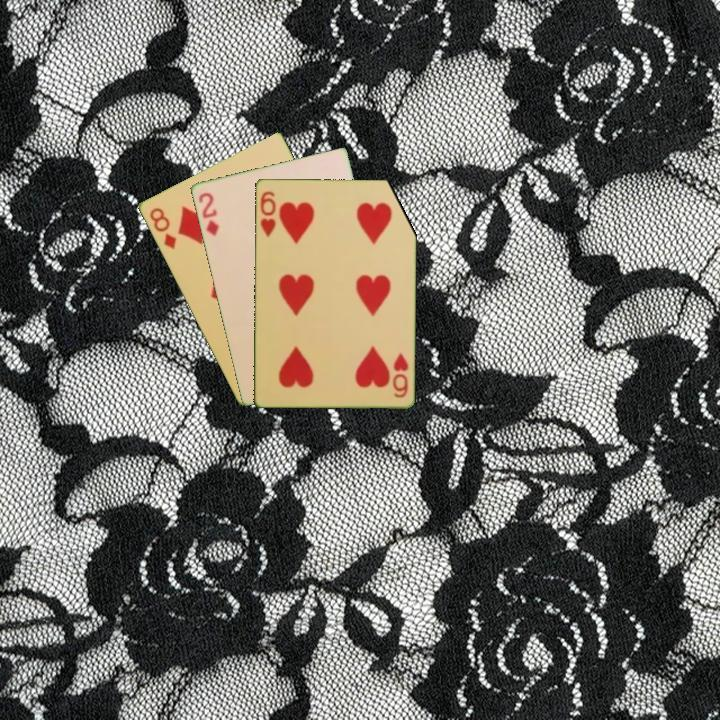2d: (195, 189, 221, 238)
6h: (256, 187, 278, 239), (389, 349, 411, 400)
8d: (146, 204, 179, 252)
